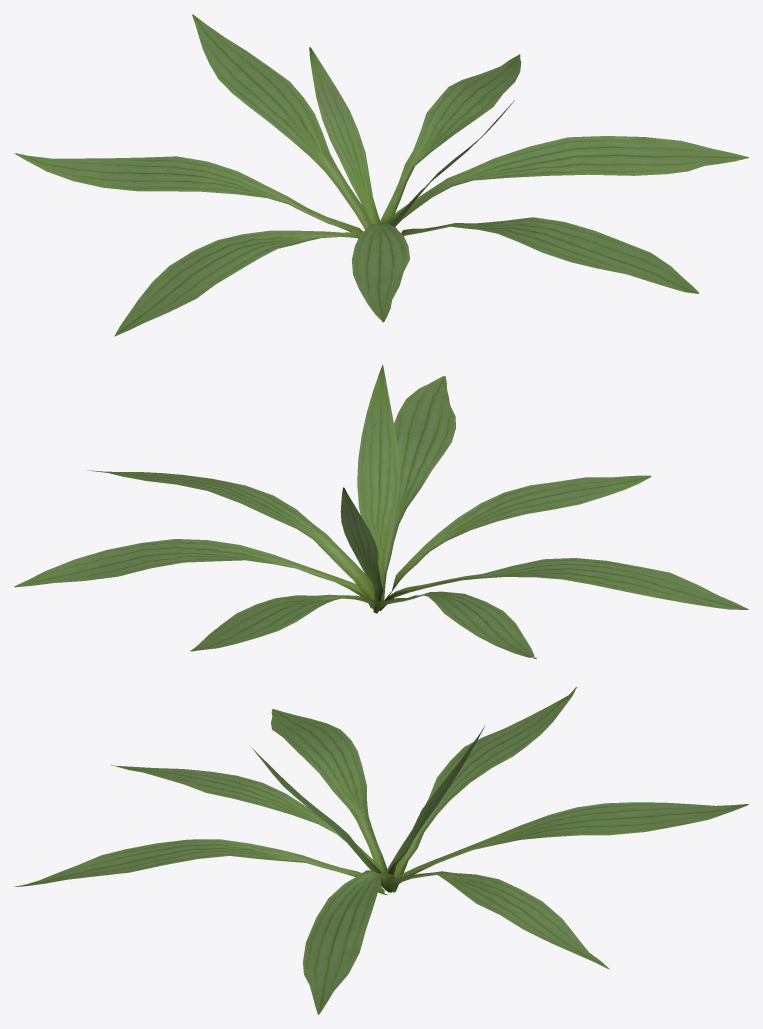
The model's file is RibwortRosette.glb.
3 renders of one model, top to bottom at view 1: azimuth 30°, elevation 25°; view 2: azimuth 150°, elevation 25°; view 3: azimuth 270°, elevation 25°, orthographic. The views are drawn at different scales.
Parts seen in each view (by area): view 1: geometry_0; view 2: geometry_0; view 3: geometry_0.
Boxes of the visible parts, <box> form: geometry_0: <box>14,14,748,336</box>; geometry_0: <box>14,365,748,658</box>; geometry_0: <box>14,687,748,1014</box>.
Bounding box in the file's own units: 0.5935 × 0.16 × 0.6012.
Materials: 1 (1 with a texture image).
